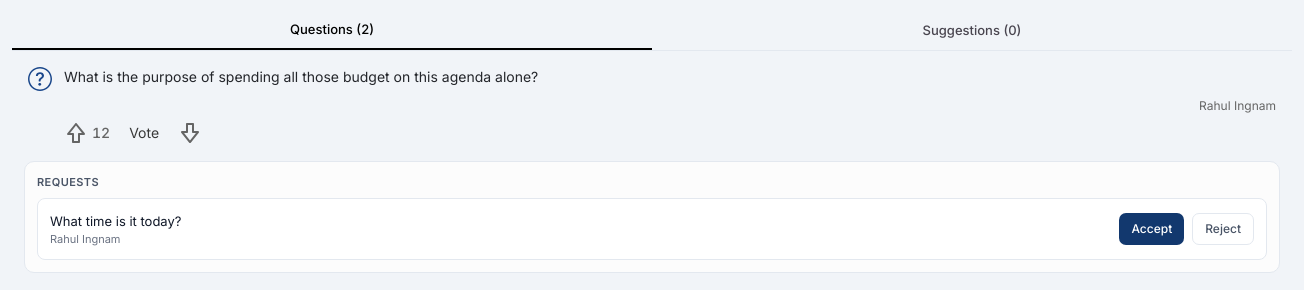
it: requests inside the live room boards › accepts a request onto its selected board and removes it immediately
Click the button "Accept" at (1152, 229), box [1119,213,1184,245]
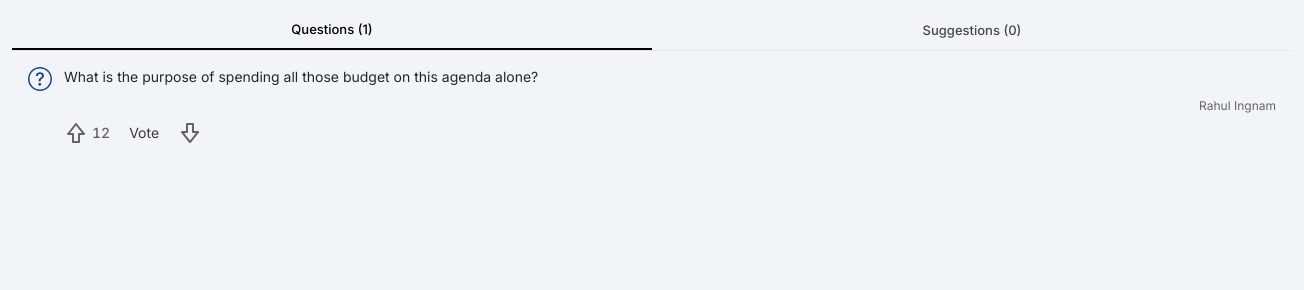
Now the text "What time is it today?" is gone
